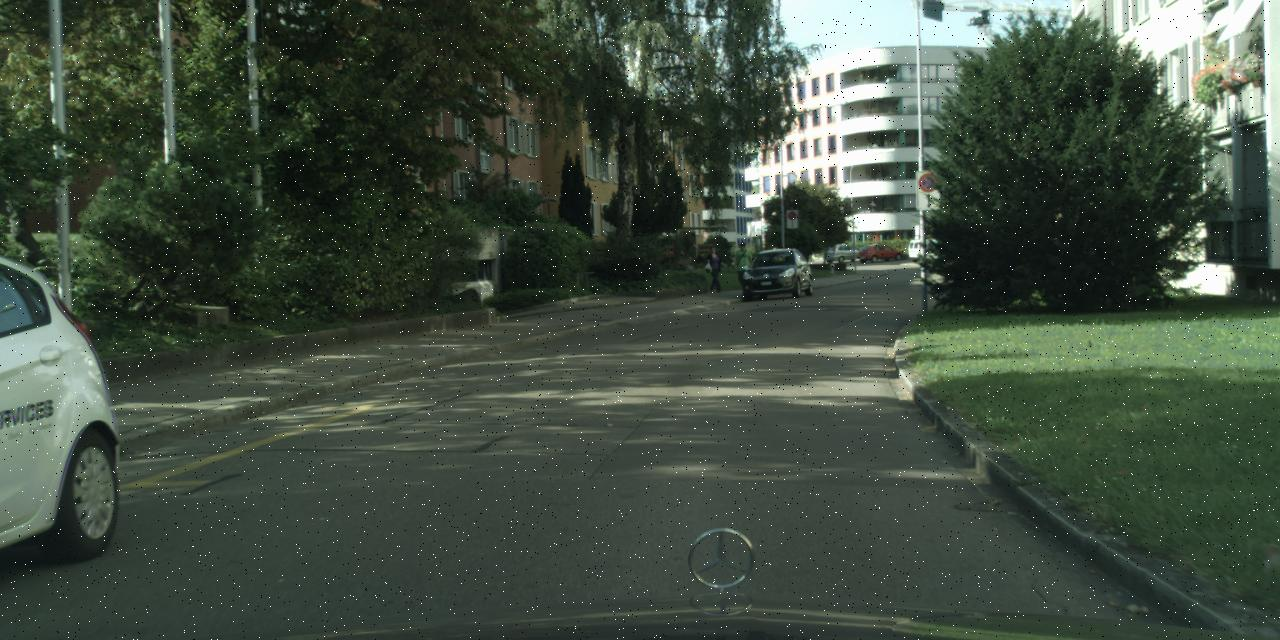ped: (734, 242, 754, 293), (704, 246, 722, 291)
